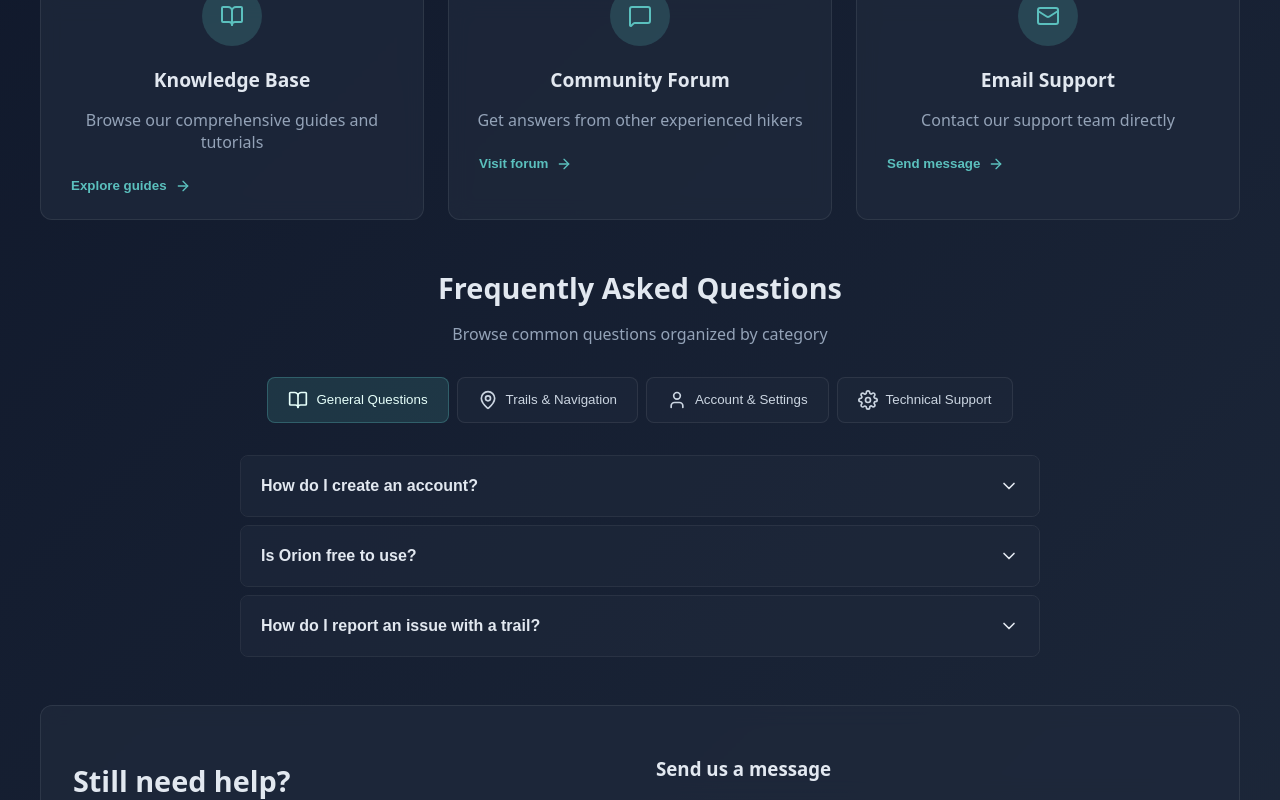
Scenario: HelpCenterPage Component › Category Navigation › switches to account category
Click the button "Account & Settings": (737, 400) x1=646 y1=377 x2=829 y2=423
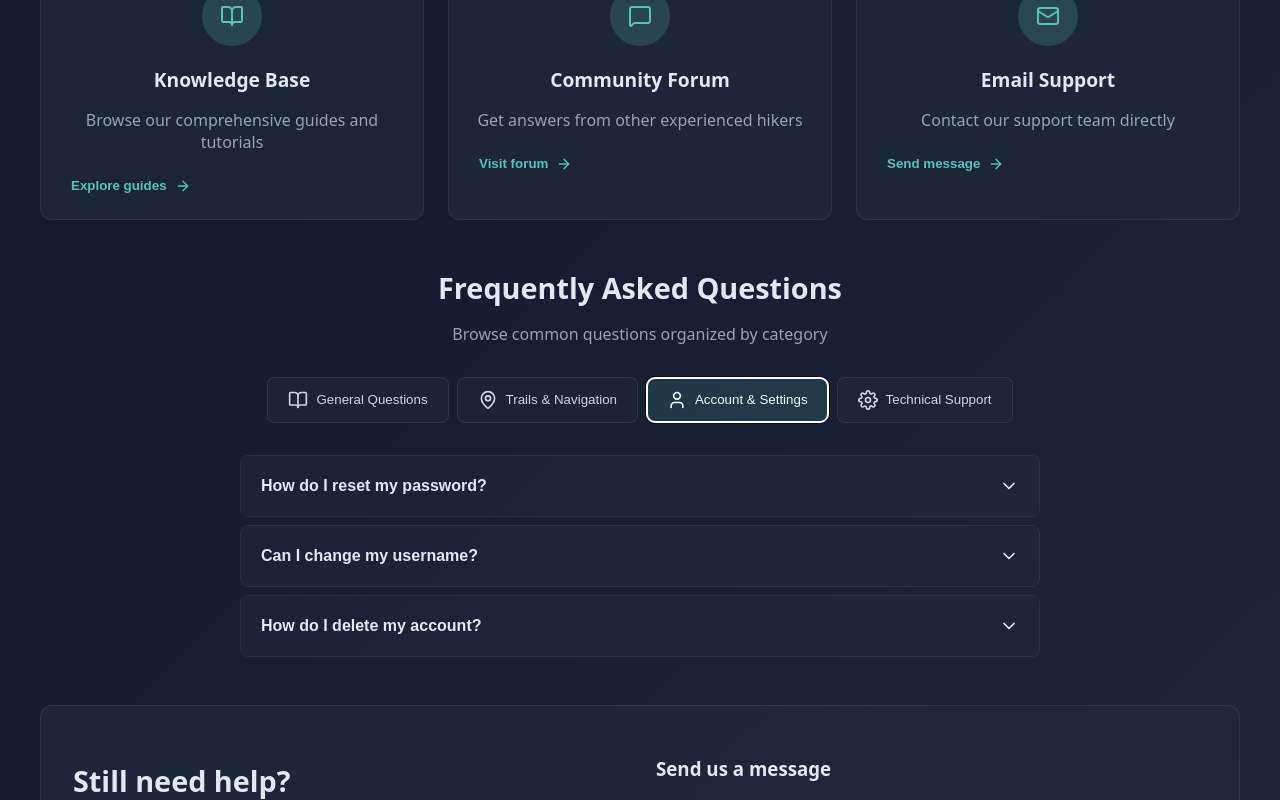
Result: the text "How do I reset my password?" is shown at x1=261 y1=477 x2=487 y2=495
